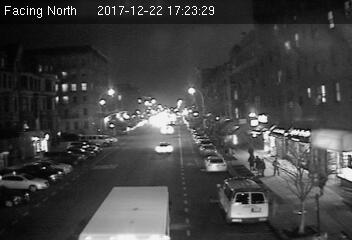car: (202, 155, 229, 172), (154, 141, 173, 153)
pedestrian: (272, 157, 281, 177)
police: (214, 175, 270, 223)
